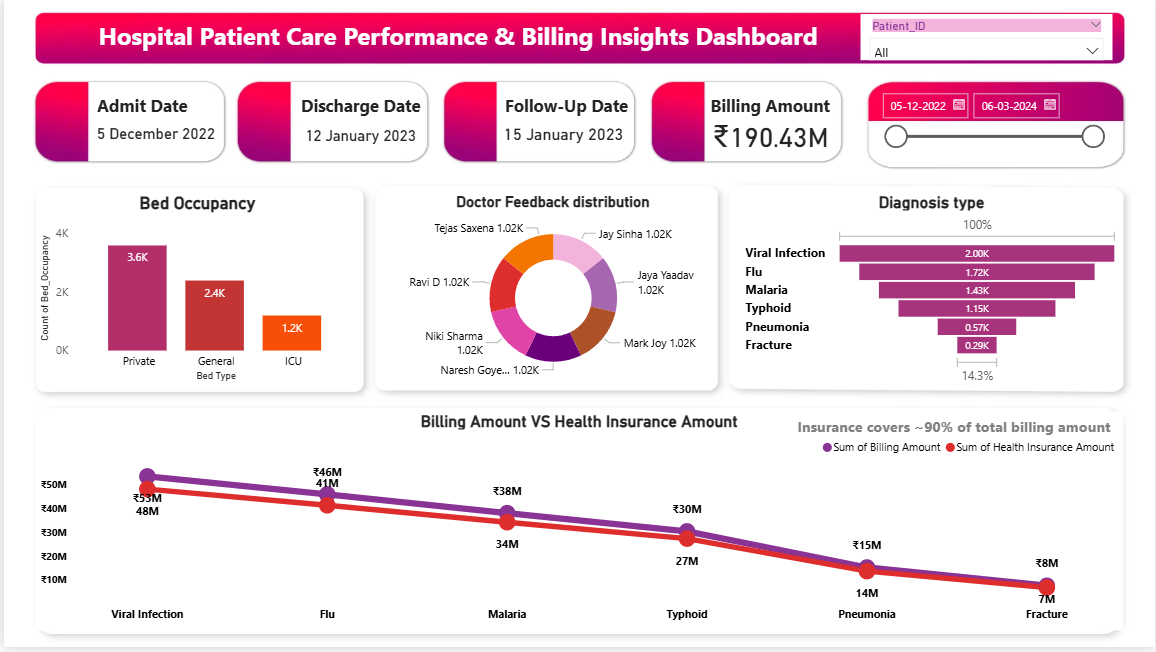

The dashboard page shown, as its layout file describes it:
{"tool":"powerbi","page":{"name":"Page 1","canvas":[1280,720],"ordinal":0},"visuals":[{"type":"slicer","fields":{"Values":["Healthcare Dataset.Patient_ID"]},"box":[951.4,17.1,280,51.4],"z":0},{"type":"card","fields":{"Values":["Min(Healthcare Dataset.Admit_Date)"]},"box":[57.1,100,222.9,100],"z":1000},{"type":"textbox","box":[98.6,100,134.3,42.9],"z":2000},{"type":"card","fields":{"Values":["Min(Healthcare Dataset.Discharge_Date)"]},"box":[300,121.7,191.7,61.7],"z":3000},{"type":"textbox","box":[324.3,100,150,42.9],"z":4000},{"type":"card","fields":{"Values":["Min(Healthcare Dataset.Followup Date)"]},"box":[518.6,124.3,205.7,50],"z":5000},{"type":"card","fields":{"Values":["Sum(Healthcare Dataset.Billing Amount)"]},"box":[740,112.9,222.9,75.7],"z":6000},{"type":"textbox","box":[780,100,147.1,50],"z":7000},{"type":"textbox","box":[551.4,100,157.1,74.3],"z":8000},{"type":"slicer","fields":{"Values":["Healthcare Dataset.Admit_Date"]},"box":[962.9,94.3,268.6,105.7],"z":9000},{"type":"clusteredColumnChart","title":"Bed Occupancy","fields":{"Category":["Healthcare Dataset.Bed_Occupancy"],"Y":["CountNonNull(Healthcare Dataset.Bed_Occupancy)"]},"box":[35.7,214.3,360,214.3],"z":10000},{"type":"donutChart","title":"Doctor Feedback distribution","fields":{"Category":["Healthcare Dataset.Doctor"],"Y":["CountNonNull(Healthcare Dataset.Doctor)"]},"box":[430,214.3,360,214.3],"z":11000},{"type":"funnel","title":"Diagnosis type","fields":{"Category":["Healthcare Dataset.Diagnosis"],"Y":["CountNonNull(Healthcare Dataset.Diagnosis)"]},"box":[818.3,215,425,216.7],"z":12000},{"type":"lineChart","title":"Billing Amount VS Health Insurance Amount","fields":{"Y":["Sum(Healthcare Dataset.Billing Amount)","Sum(Healthcare Dataset.Health Insurance Amount)"],"Category":["Healthcare Dataset.Diagnosis"]},"box":[35,458.3,1208.3,243.3],"z":13000},{"type":"textbox","box":[100,16.7,826.7,51.7],"z":14000},{"type":"textbox","box":[876.7,458.3,365,31.7],"z":15000}]}

Visuals, with their boxes in screenshot pixels (x1, y1, x2, y2), scaled from the page's 1280x720 canvas onto the 1156x652 screenshot:
slicer - Healthcare Dataset.Patient_ID: left=859, top=15, right=1112, bottom=62
card - Min(Healthcare Dataset.Admit_Date): left=52, top=91, right=253, bottom=181
textbox: left=89, top=91, right=210, bottom=129
card - Min(Healthcare Dataset.Discharge_Date): left=271, top=110, right=444, bottom=166
textbox: left=293, top=91, right=428, bottom=129
card - Min(Healthcare Dataset.Followup Date): left=468, top=113, right=654, bottom=158
card - Sum(Healthcare Dataset.Billing Amount): left=668, top=102, right=870, bottom=171
textbox: left=704, top=91, right=837, bottom=136
textbox: left=498, top=91, right=640, bottom=158
slicer - Healthcare Dataset.Admit_Date: left=870, top=85, right=1112, bottom=181
"Bed Occupancy" clusteredColumnChart: left=32, top=194, right=357, bottom=388
"Doctor Feedback distribution" donutChart: left=388, top=194, right=713, bottom=388
"Diagnosis type" funnel: left=739, top=195, right=1123, bottom=391
"Billing Amount VS Health Insurance Amount" lineChart: left=32, top=415, right=1123, bottom=635
textbox: left=90, top=15, right=837, bottom=62
textbox: left=792, top=415, right=1121, bottom=444
